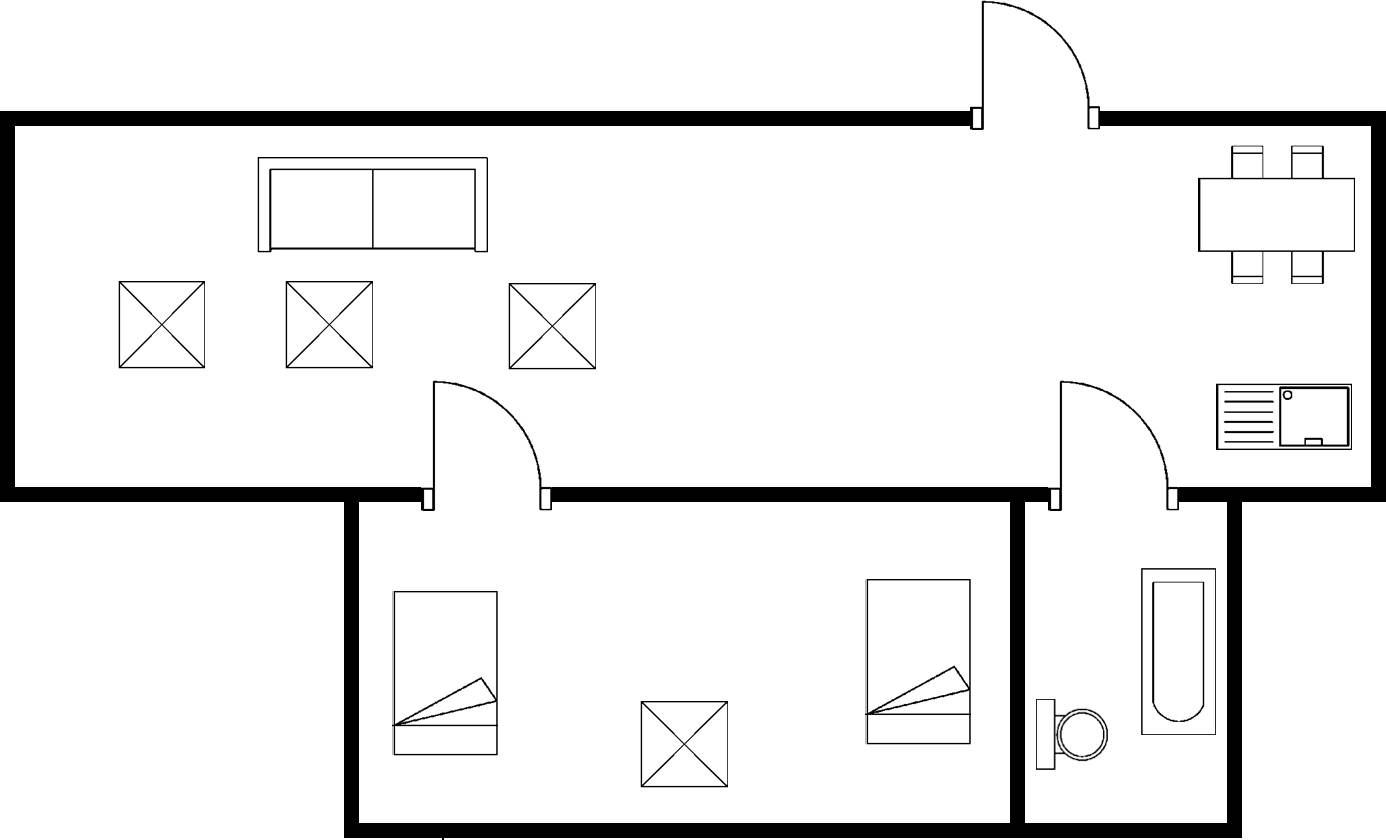bed: (861, 573, 974, 750), (389, 586, 503, 759)
coffee_table: (111, 275, 212, 375), (279, 275, 377, 375), (634, 694, 733, 792), (502, 277, 600, 374)
dining_table: (1192, 139, 1360, 289)
large_sink: (1032, 692, 1112, 778)
large_sofa: (250, 149, 494, 262)
sink: (1210, 378, 1358, 456)
tub: (1135, 564, 1221, 740)
